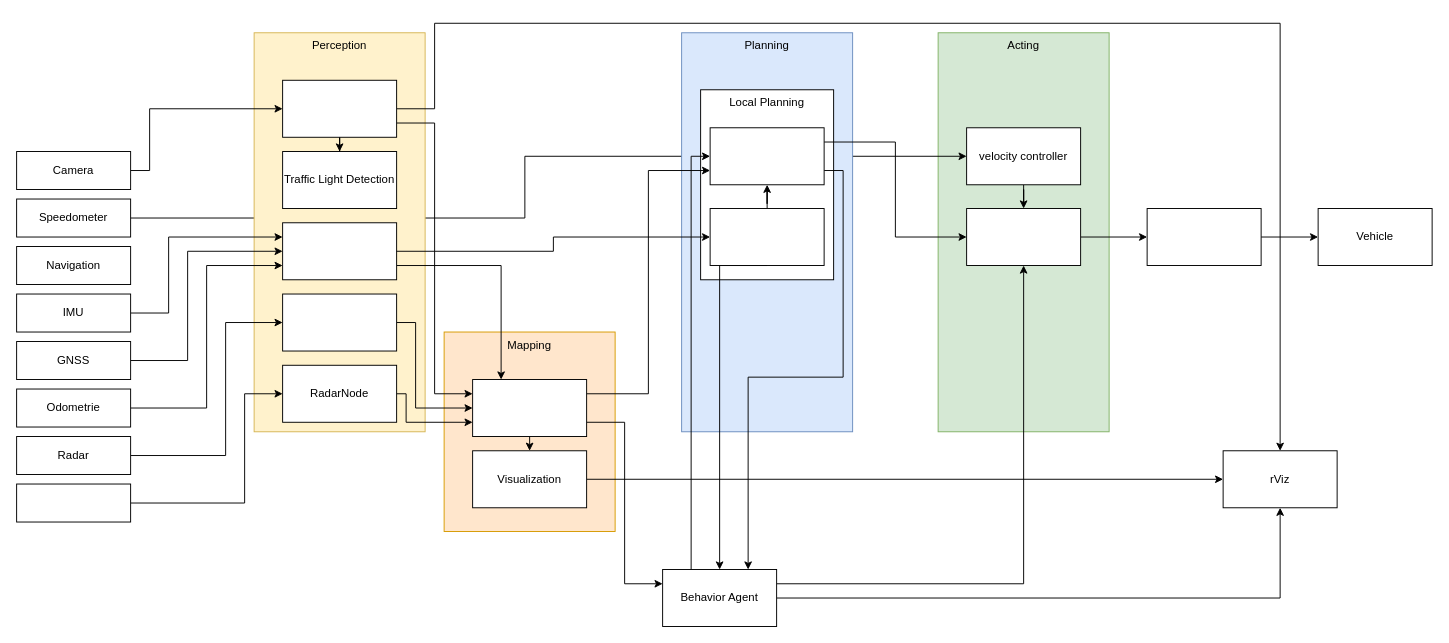
This 1449x643 diagram has some shape labels left out. The shapes that lost their labels are listed below. From the top down, each one's centre as x and y in pixels, then its label:
At (x=339, y=108): "VisionNode".
At (x=766, y=156): "ACC".
At (x=339, y=251): "Localization".
At (x=766, y=237): "Motion Planning".
At (x=1023, y=237): "vehicle controller".
At (x=1203, y=237): "CARLA bridge".
At (x=339, y=322): "LidarNode".
At (x=529, y=408): "Data Integration".
At (x=73, y=502): "LIDAR".
